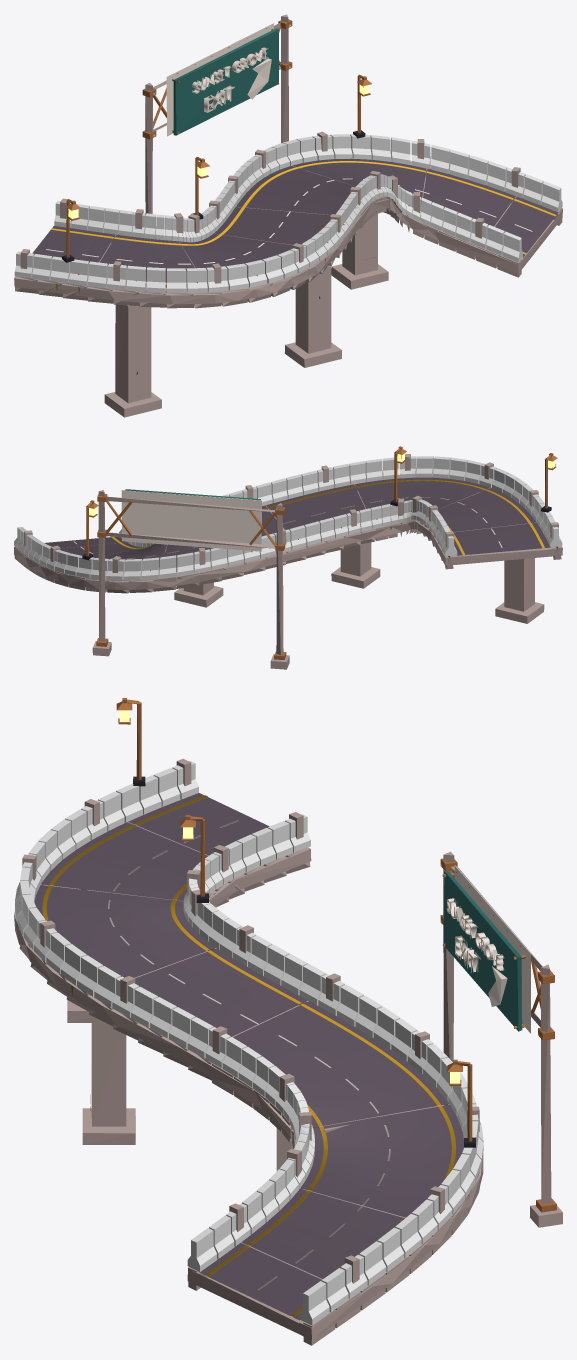
File: kit.highway-onramp.lod1.glb
3 renders of one model, top to bottom at view 1: azimuth 30°, elevation 25°; view 2: azimuth 150°, elevation 25°; view 3: azimuth 270°, elevation 25°, orthographic. The views are drawn at different scales.
Bounding box in the file's own units: 28.31 × 9.45 × 16.79.
